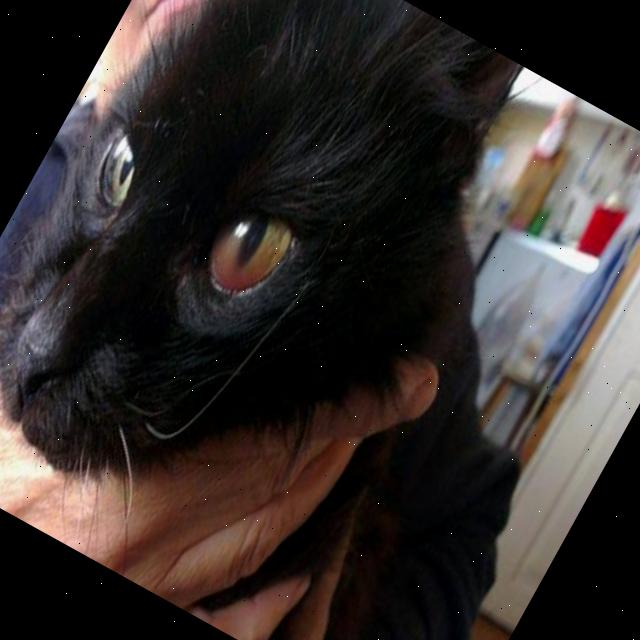cat-eye: (165, 163, 322, 350)
cat-eye-normal: (64, 129, 160, 240)
